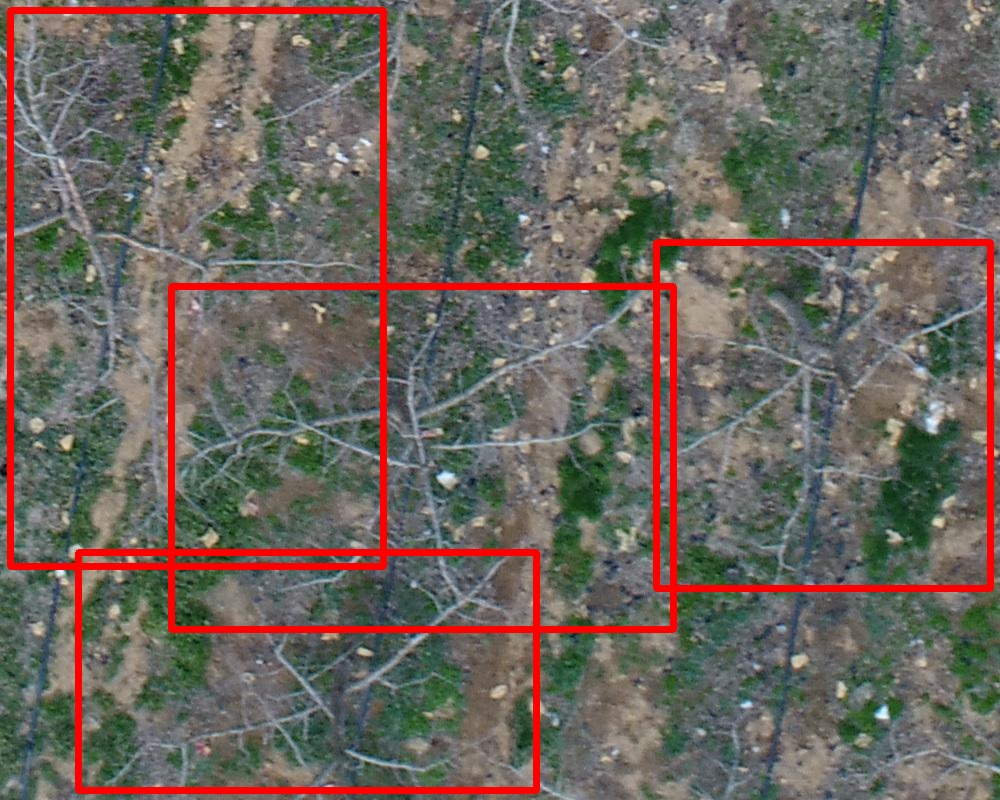apple: (10, 10, 383, 566), (171, 286, 673, 629), (656, 242, 990, 588), (78, 552, 536, 790)
